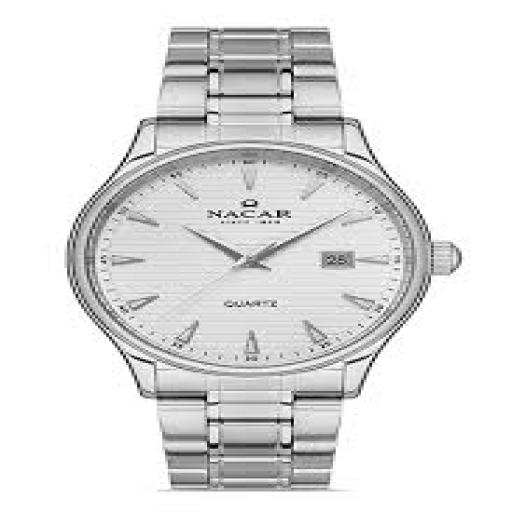KolSaati: (56, 6, 479, 508)
